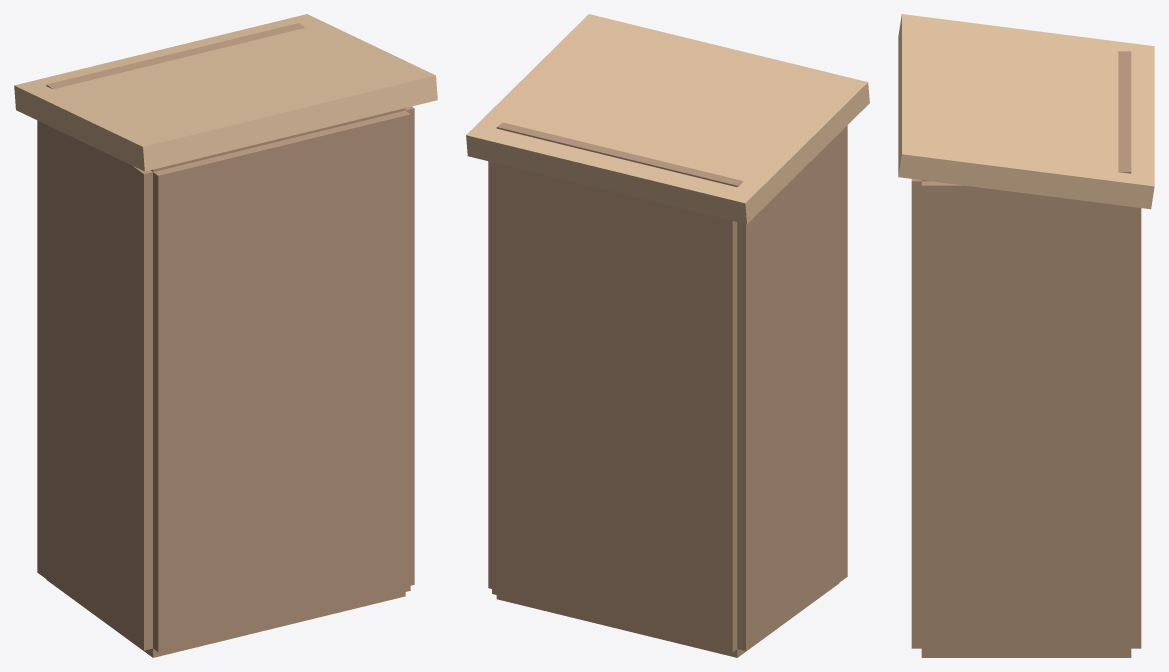
The model's file is podium.glb.
3 views of the same model, side by side, from view 1: azimuth 30°, elevation 25°; view 2: azimuth 150°, elevation 25°; view 3: azimuth 270°, elevation 25° (orthographic). The views are drawn at different scales.
Parts seen in each view (by area): view 1: podium; view 2: podium; view 3: podium.
Boxes of the visible parts, x1,y1,x2,y2 form: podium: (14, 14, 437, 657); podium: (466, 14, 869, 657); podium: (898, 14, 1154, 657).
Size of the model in its own units: 0.65 by 1.11 by 0.5021.
